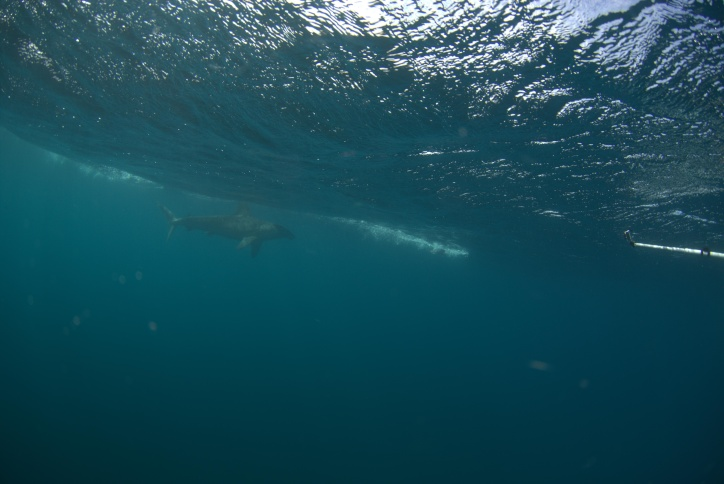Hammer: (138, 187, 310, 271)
